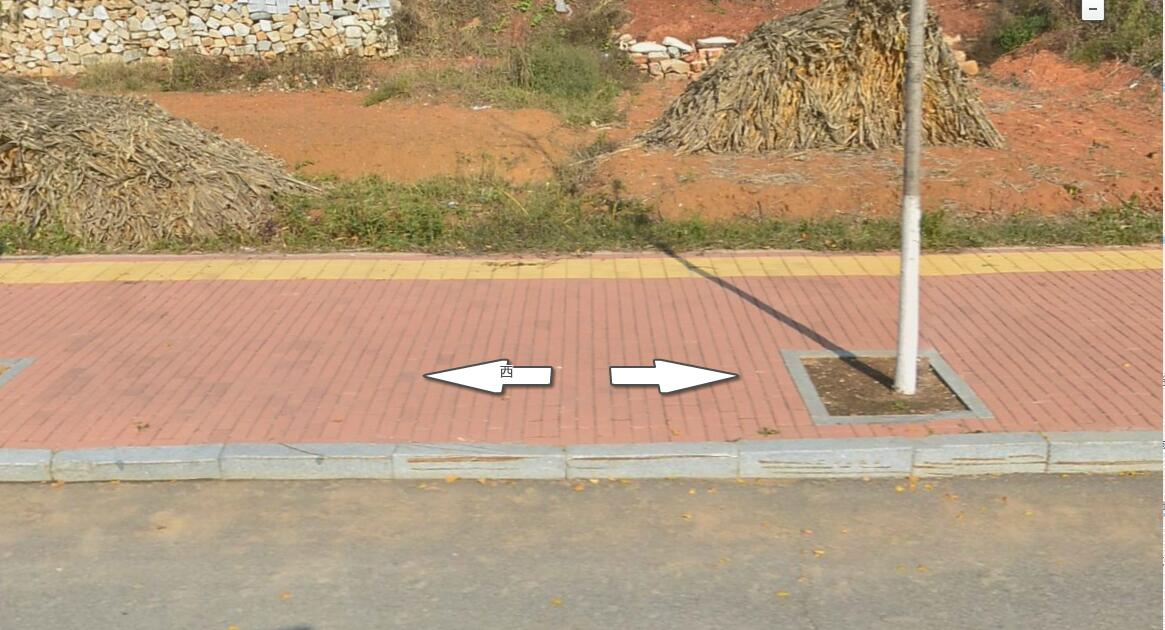side: (567, 442, 740, 480), (220, 444, 394, 481), (394, 444, 568, 481), (738, 441, 914, 477), (911, 433, 1049, 475), (50, 447, 221, 480)
